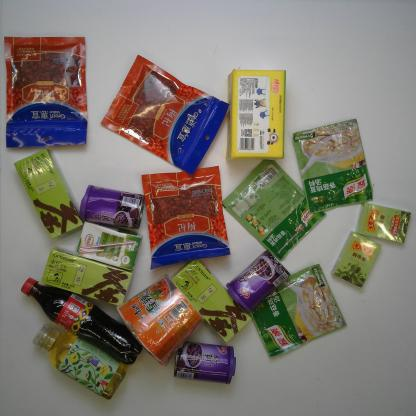Candy: (330, 230, 382, 290), (354, 202, 412, 244)
Canned Food: (225, 249, 291, 314), (79, 184, 146, 230), (173, 341, 236, 385)
Dried Fruit: (100, 53, 229, 175), (1, 32, 88, 152), (141, 165, 231, 271)
Drink: (20, 276, 142, 366), (31, 323, 127, 401)
Instant Drink: (170, 258, 252, 344), (13, 148, 83, 240), (40, 248, 134, 307)
Instant Noodles: (115, 273, 205, 367)
Milk: (74, 221, 144, 271)
Seasoner: (221, 159, 326, 261), (250, 263, 347, 359), (292, 118, 375, 215)
Tissue: (226, 69, 287, 159)
